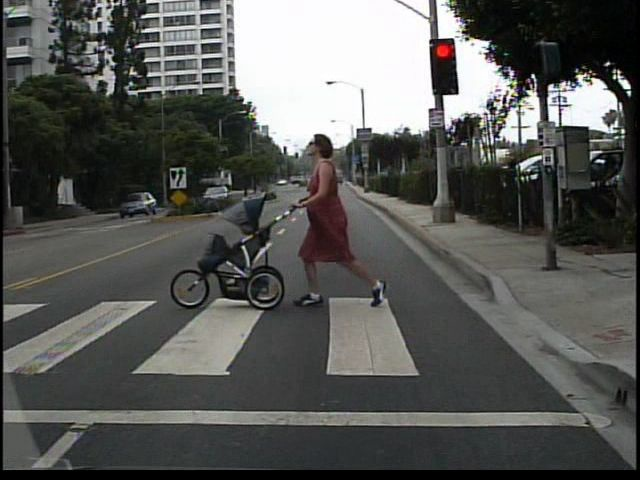person: (296, 130, 388, 308)
